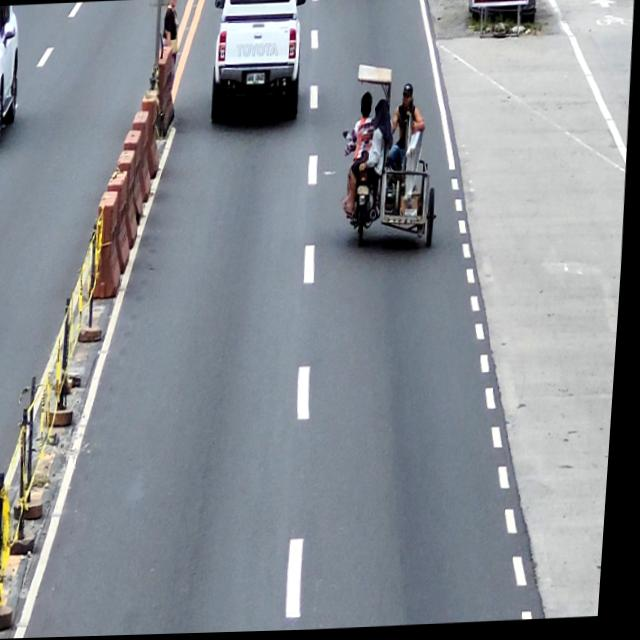Car: (208, 0, 308, 124), (0, 4, 25, 149)
License-Plate: (247, 73, 267, 87), (359, 187, 372, 198)
Tricycle: (337, 61, 448, 257)
